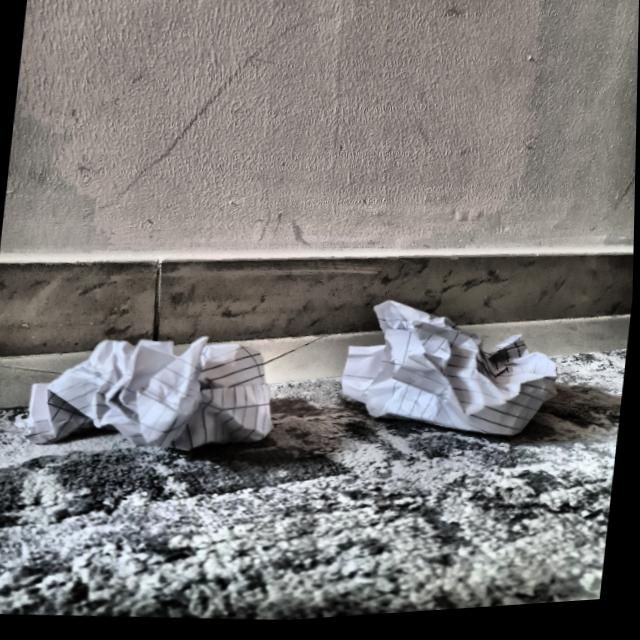Paper: (22, 310, 289, 466), (338, 290, 574, 462)
